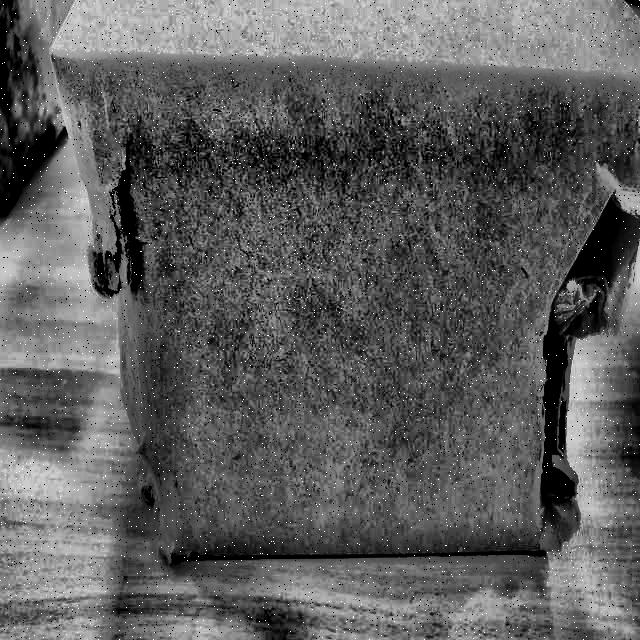box: (28, 0, 640, 574)
hole: (542, 169, 640, 507)
